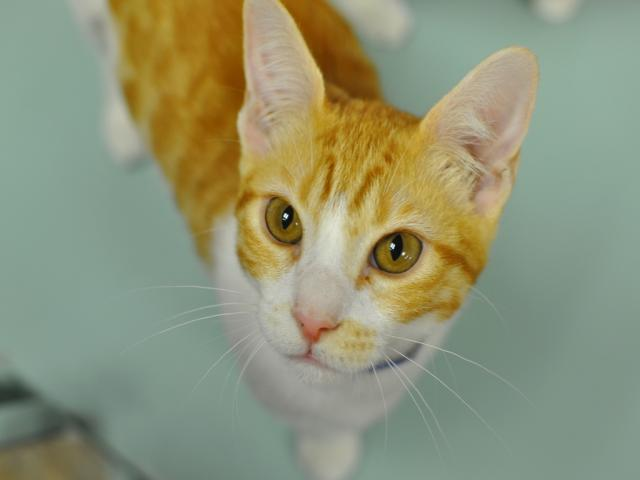Cat: (72, 0, 539, 480)
